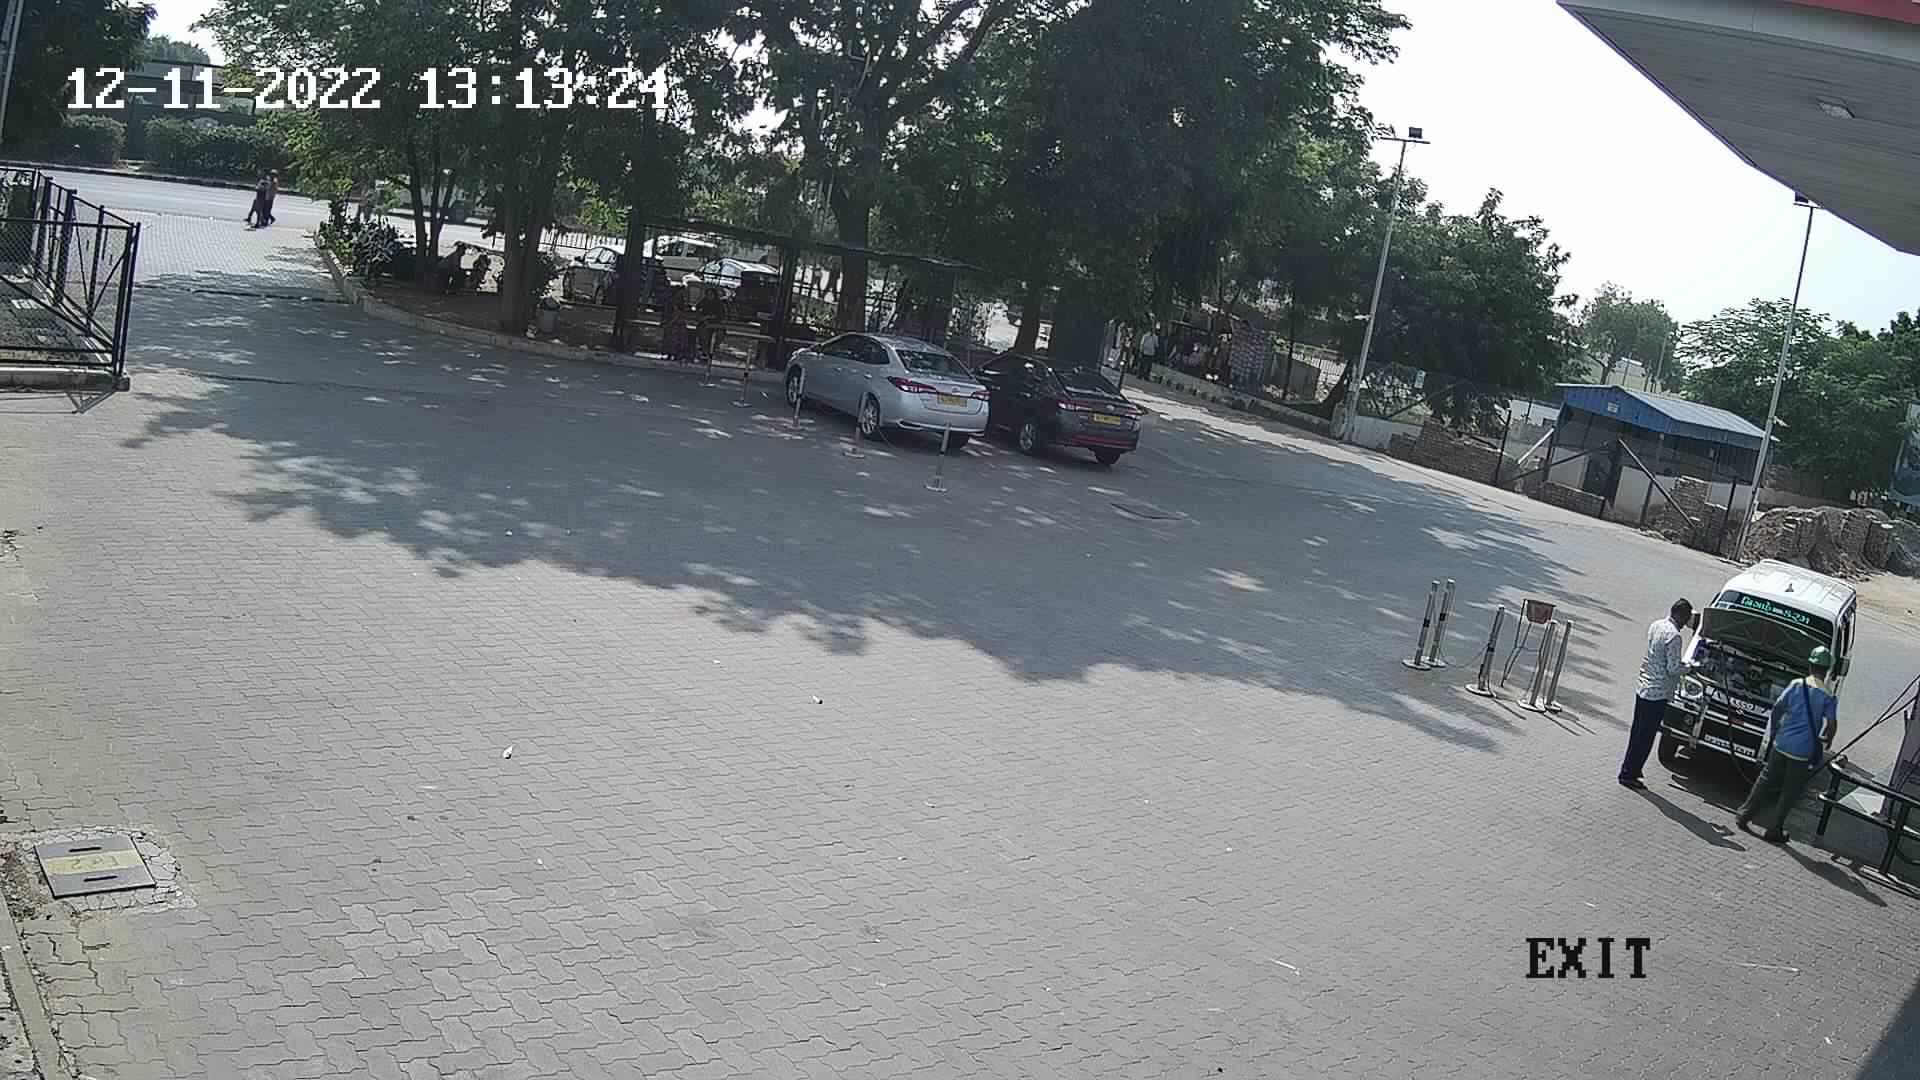Car: (1655, 553, 1865, 814), (777, 313, 1006, 456), (972, 343, 1151, 465), (675, 248, 785, 320), (637, 224, 727, 291), (556, 237, 626, 305)
Others: (1731, 638, 1846, 852)
